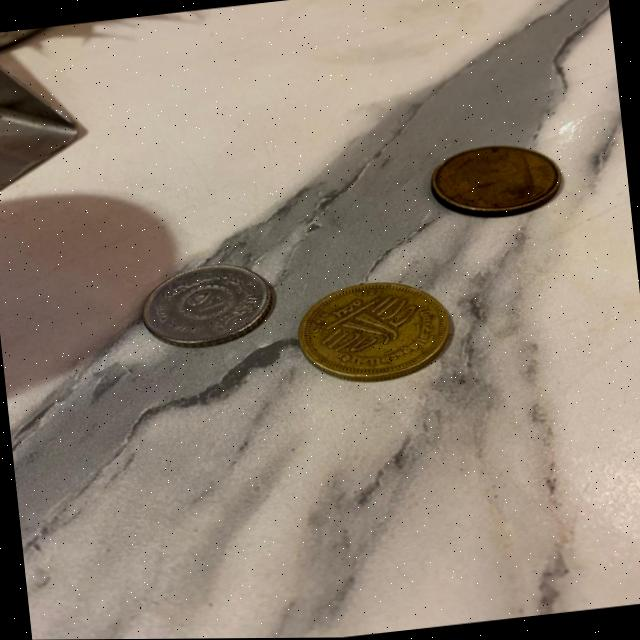Half Pound: (293, 273, 459, 390), (428, 139, 566, 225)
quarter pound: (137, 258, 280, 353)
